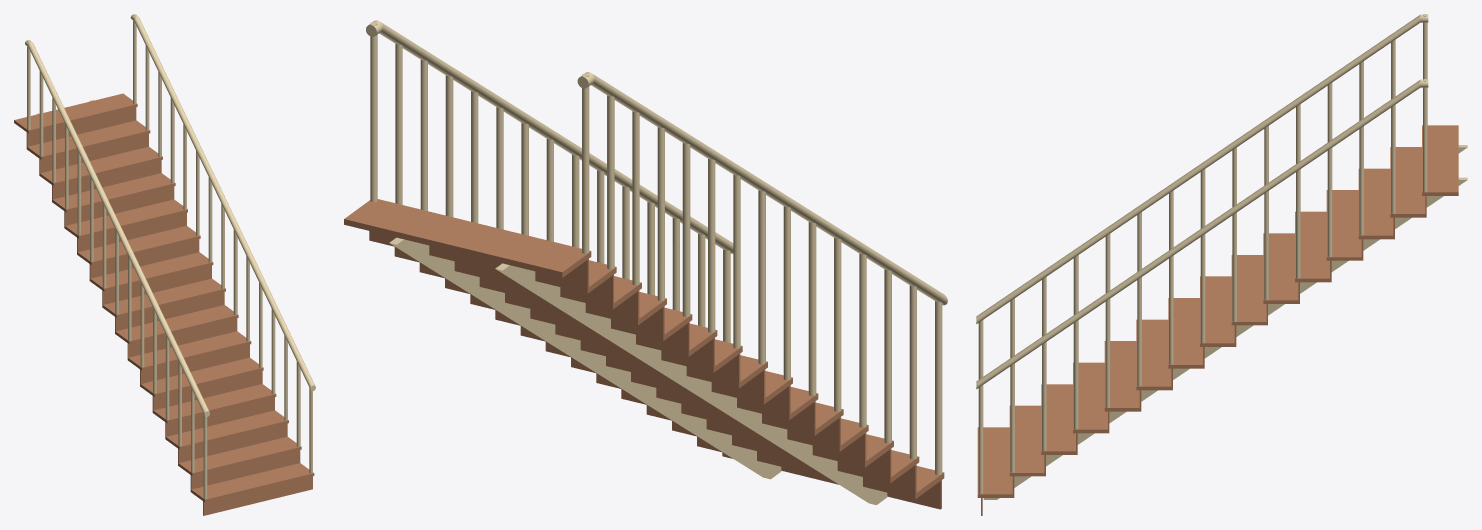
The model's file is sewer_stairs.fbx.
3 renders of one model, left to right at view 1: azimuth 30°, elevation 25°; view 2: azimuth 150°, elevation 25°; view 3: azimuth 270°, elevation 25°, orthographic. The views are drawn at different scales.
Parts seen in each view (by area): view 1: StraightStairs_Main_GrpN_1RightHand_Rail_1, StraightStairs_Main_GrpN_1LeftHand_Rail_1, StraightStairs_Main_GrpN_1Step_1, StraightStairs_Main_GrpN_1Step_2, StraightStairs_Main_GrpN_1Step_3, StraightStairs_Main_GrpN_1Step_15, StraightStairs_Main_GrpN_1Step_11, StraightStairs_Main_GrpN_1Step_12, StraightStairs_Main_GrpN_1Step_9, StraightStairs_Main_GrpN_1Step_4, StraightStairs_Main_GrpN_1Step_10, StraightStairs_Main_GrpN_1Step_13 (+32 smaller); view 2: StraightStairs_Main_GrpN_1StairRail_1, StraightStairs_Main_GrpN_1Step_15, StraightStairs_Main_GrpN_1LeftHand_Rail_1, StraightStairs_Main_GrpN_1RightHand_Rail_1, StraightStairs_Main_GrpN_1LeftHandRail_Pole_11, StraightStairs_Main_GrpN_1LeftHandRail_Pole_6, StraightStairs_Main_GrpN_1Step_14, StraightStairs_Main_GrpN_1Step_10, StraightStairs_Main_GrpN_1Step_5, StraightStairs_Main_GrpN_1Step_2, StraightStairs_Main_GrpN_1Step_1, StraightStairs_Main_GrpN_1Step_7 (+51 smaller); view 3: StraightStairs_Main_GrpN_1LeftHand_Rail_1, StraightStairs_Main_GrpN_1RightHand_Rail_1, StraightStairs_Main_GrpN_1Step_15, StraightStairs_Main_GrpN_1Step_6, StraightStairs_Main_GrpN_1Step_13, StraightStairs_Main_GrpN_1Step_2, StraightStairs_Main_GrpN_1Step_1, StraightStairs_Main_GrpN_1Step_5, StraightStairs_Main_GrpN_1Step_12, StraightStairs_Main_GrpN_1Step_9, StraightStairs_Main_GrpN_1Step_11, StraightStairs_Main_GrpN_1Step_4 (+11 smaller).
Boxes of the visible parts, x1,y1,x2,y2 form: StraightStairs_Main_GrpN_1RightHand_Rail_1: (130, 14, 315, 391); StraightStairs_Main_GrpN_1LeftHand_Rail_1: (25, 40, 209, 416); StraightStairs_Main_GrpN_1Step_1: (190, 463, 314, 502); StraightStairs_Main_GrpN_1Step_2: (178, 436, 301, 476); StraightStairs_Main_GrpN_1Step_3: (165, 410, 288, 449); StraightStairs_Main_GrpN_1Step_15: (14, 93, 137, 133); StraightStairs_Main_GrpN_1Step_11: (64, 199, 187, 238); StraightStairs_Main_GrpN_1Step_12: (52, 173, 175, 212); StraightStairs_Main_GrpN_1Step_9: (89, 252, 213, 291); StraightStairs_Main_GrpN_1Step_4: (152, 384, 276, 423); StraightStairs_Main_GrpN_1Step_10: (77, 226, 200, 265); StraightStairs_Main_GrpN_1Step_13: (39, 146, 162, 185); StraightStairs_Main_GrpN_1StairRail_1: (389, 237, 887, 504); StraightStairs_Main_GrpN_1Step_15: (344, 199, 591, 277); StraightStairs_Main_GrpN_1LeftHand_Rail_1: (577, 72, 947, 305); StraightStairs_Main_GrpN_1RightHand_Rail_1: (366, 20, 733, 253); StraightStairs_Main_GrpN_1LeftHandRail_Pole_11: (682, 143, 690, 316); StraightStairs_Main_GrpN_1LeftHandRail_Pole_6: (808, 222, 816, 395); StraightStairs_Main_GrpN_1Step_14: (369, 235, 616, 293); StraightStairs_Main_GrpN_1Step_10: (470, 298, 717, 356); StraightStairs_Main_GrpN_1Step_5: (596, 377, 843, 435); StraightStairs_Main_GrpN_1Step_2: (672, 425, 919, 483); StraightStairs_Main_GrpN_1Step_1: (697, 440, 944, 499); StraightStairs_Main_GrpN_1Step_7: (545, 345, 792, 404); StraightStairs_Main_GrpN_1LeftHand_Rail_1: (976, 14, 1428, 323); StraightStairs_Main_GrpN_1RightHand_Rail_1: (976, 79, 1428, 389); StraightStairs_Main_GrpN_1Step_15: (1422, 125, 1458, 195); StraightStairs_Main_GrpN_1Step_6: (1136, 319, 1172, 390); StraightStairs_Main_GrpN_1Step_13: (1358, 168, 1394, 239); StraightStairs_Main_GrpN_1Step_2: (1009, 405, 1045, 476); StraightStairs_Main_GrpN_1Step_1: (977, 427, 1014, 497); StraightStairs_Main_GrpN_1Step_5: (1104, 341, 1141, 411); StraightStairs_Main_GrpN_1Step_12: (1326, 190, 1363, 260); StraightStairs_Main_GrpN_1Step_9: (1231, 255, 1267, 325); StraightStairs_Main_GrpN_1Step_11: (1295, 211, 1331, 282); StraightStairs_Main_GrpN_1Step_4: (1073, 362, 1109, 433).
Size of the model in its own units: 102 by 303 by 310.
